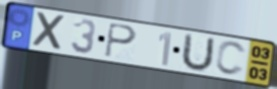1: (157, 31, 174, 67)
3: (71, 18, 97, 56)
C: (213, 40, 248, 78)
P: (104, 21, 139, 59)
U: (178, 32, 217, 73)
X: (32, 10, 69, 53)
